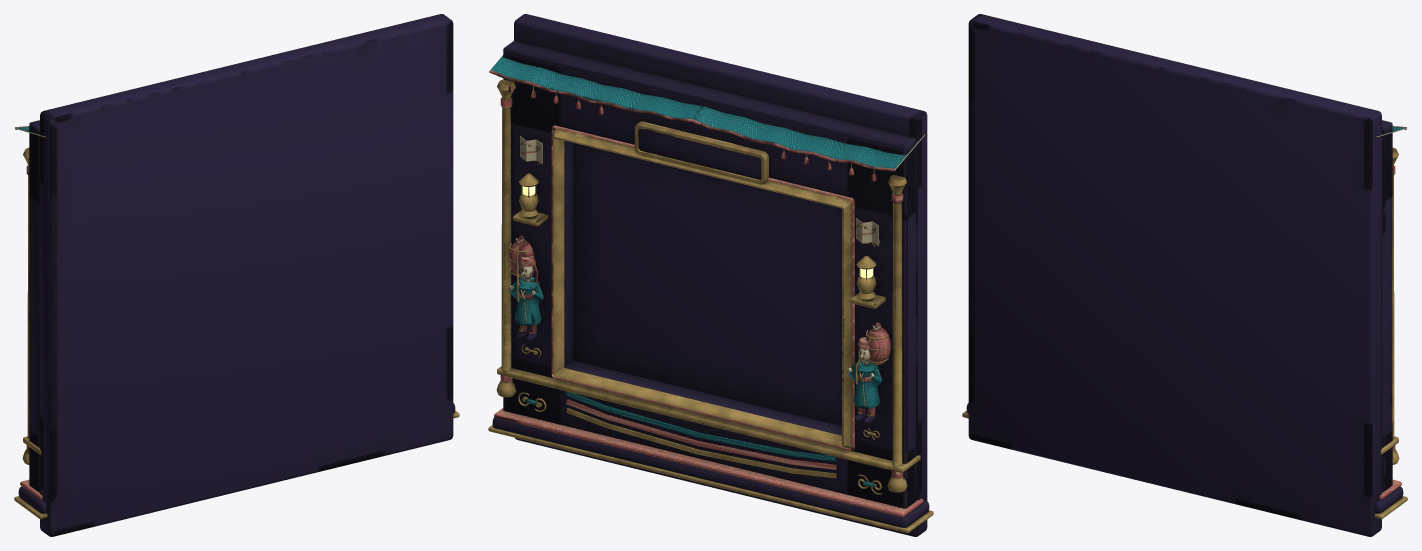
3 views of the same model, side by side, from view 1: azimuth 30°, elevation 25°; view 2: azimuth 150°, elevation 25°; view 3: azimuth 330°, elevation 25° (orthographic).
Parts seen in each view (by area): view 1: Violet_lacquer, Aged_brass; view 2: Violet_lacquer, Aged_brass, Coral_woven_cloth, Teal_woven_cloth, Warm_ivory; view 3: Violet_lacquer, Aged_brass.
Boxes of the visible parts, x1,y1,x2,y2 form: Violet_lacquer: [18, 14, 455, 536]; Aged_brass: [14, 135, 459, 519]; Violet_lacquer: [492, 14, 929, 536]; Aged_brass: [488, 79, 933, 533]; Coral_woven_cloth: [489, 70, 923, 517]; Teal_woven_cloth: [490, 55, 919, 486]; Warm_ivory: [509, 135, 924, 381]; Violet_lacquer: [966, 14, 1403, 536]; Aged_brass: [962, 136, 1407, 519].
Size of the model in its own units: 10.26 by 9.8 by 1.52.
Materials: 6 (5 with a texture image).
